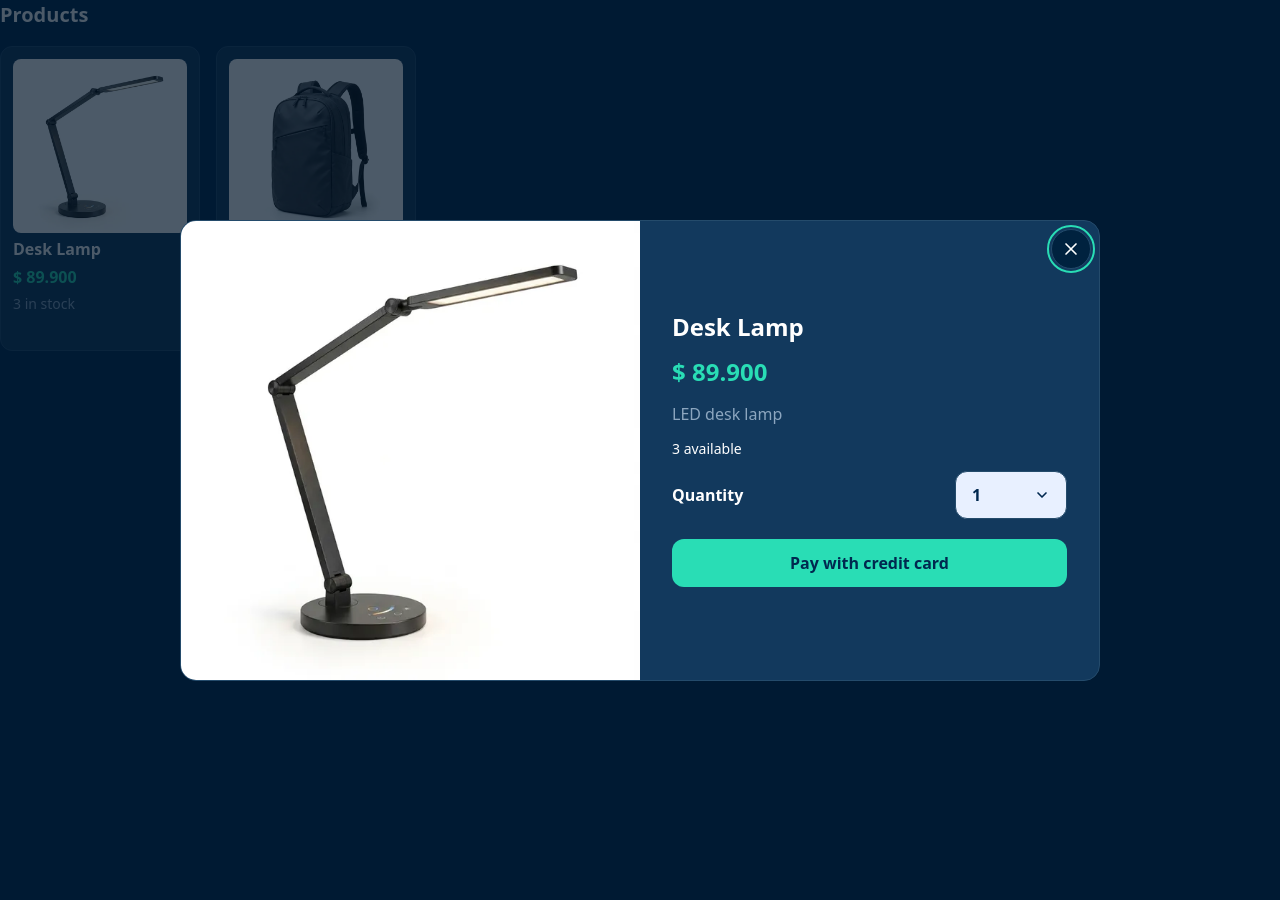
it: ProductPage › supports the keyboard and closes the list without closing the modal
Earlier steps of the test are not shown.
Click the button named "Quantity" at (1011, 495), box [955,471,1067,519]
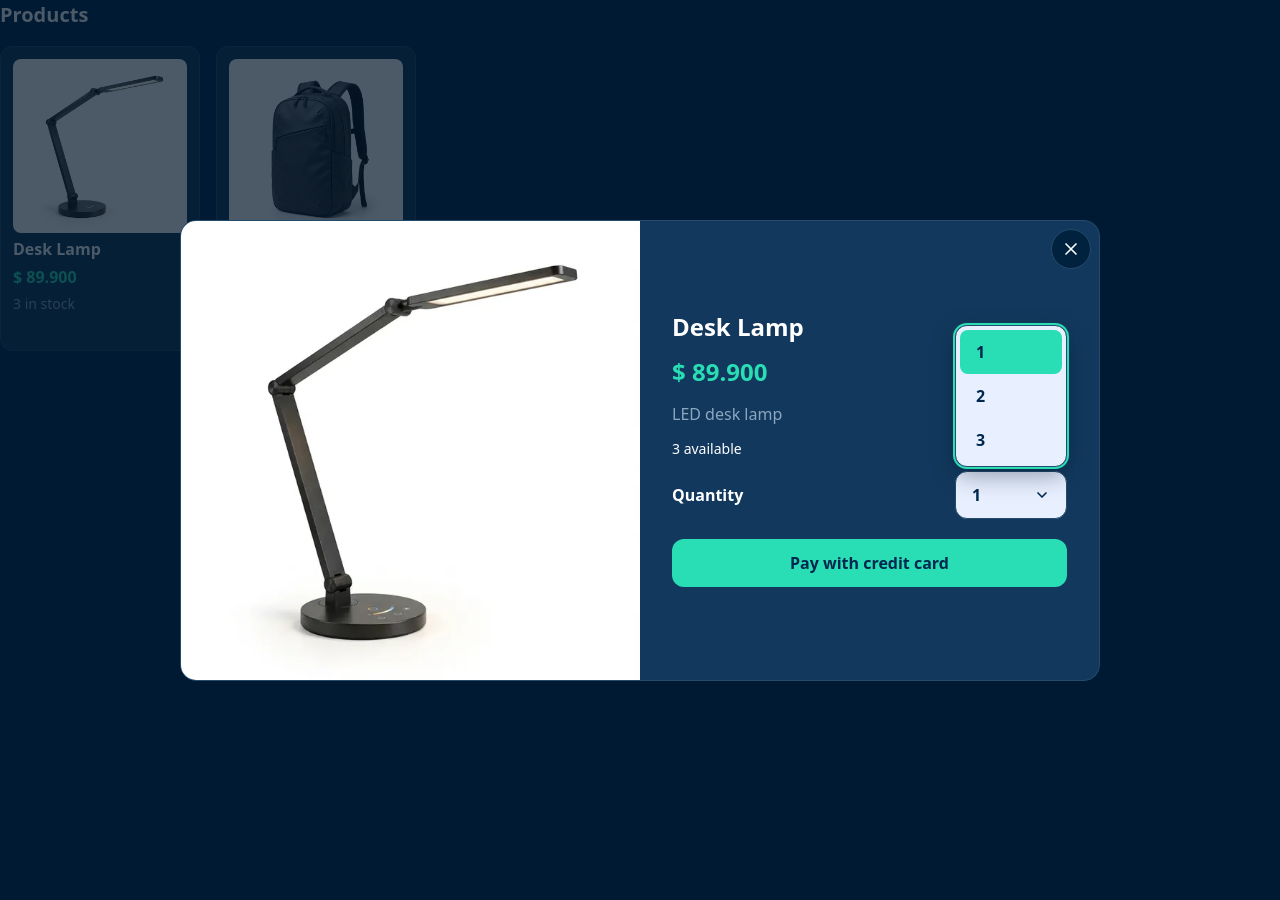
Press Arrowdown Arrowdown Arrowup Enter
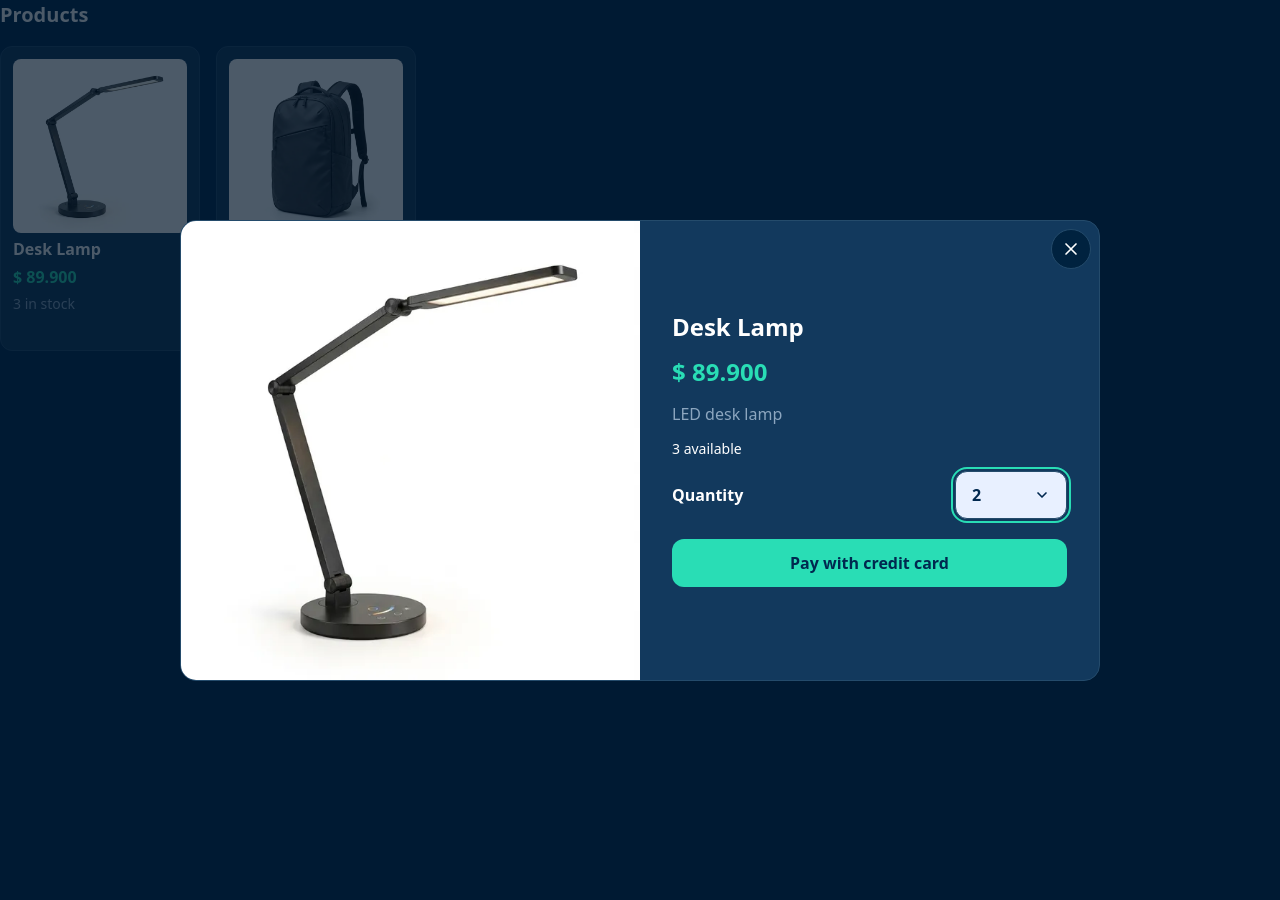
Check: the button named "Quantity" reads "2"
Click the button named "Quantity" at (1011, 495), box [955,471,1067,519]
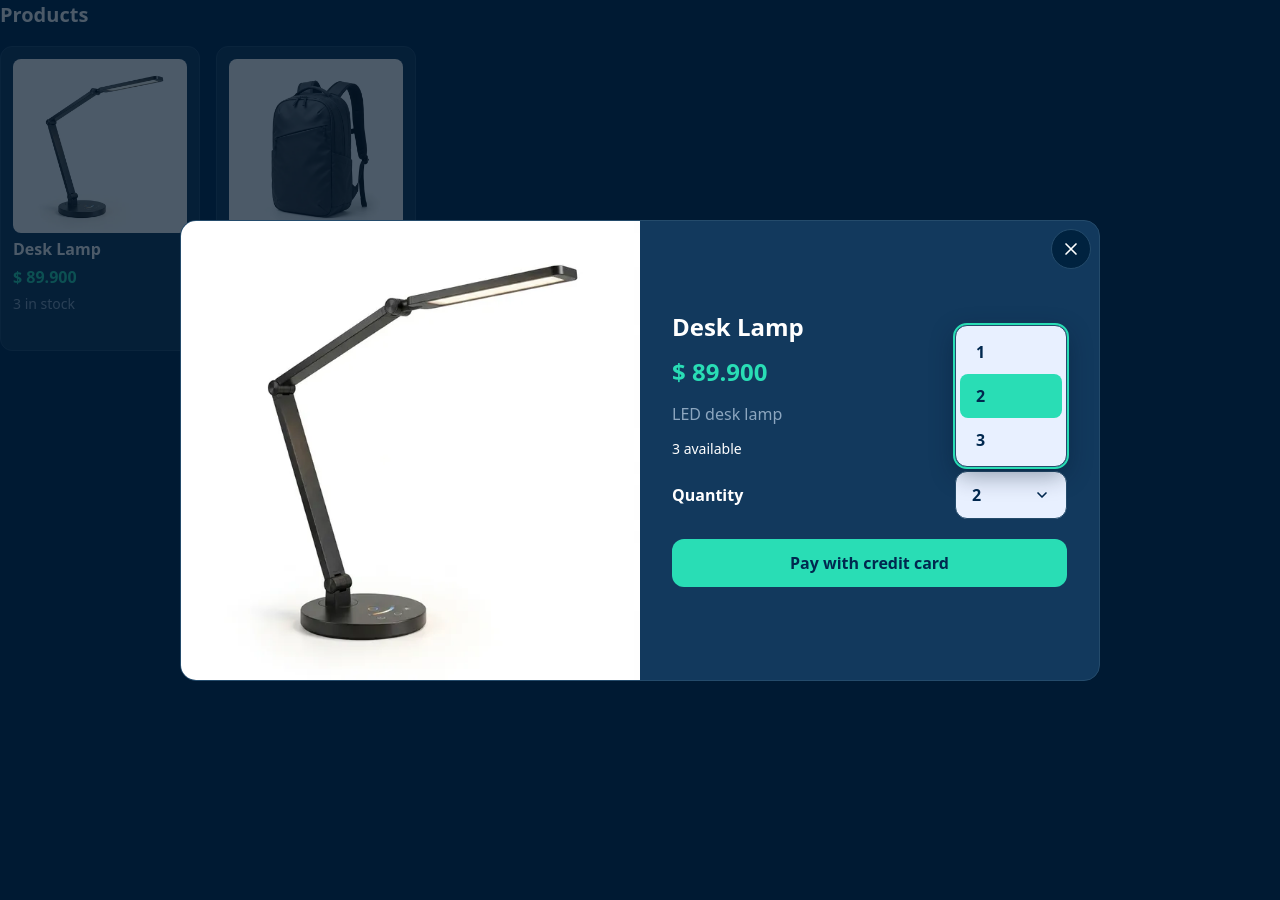
Press Escape
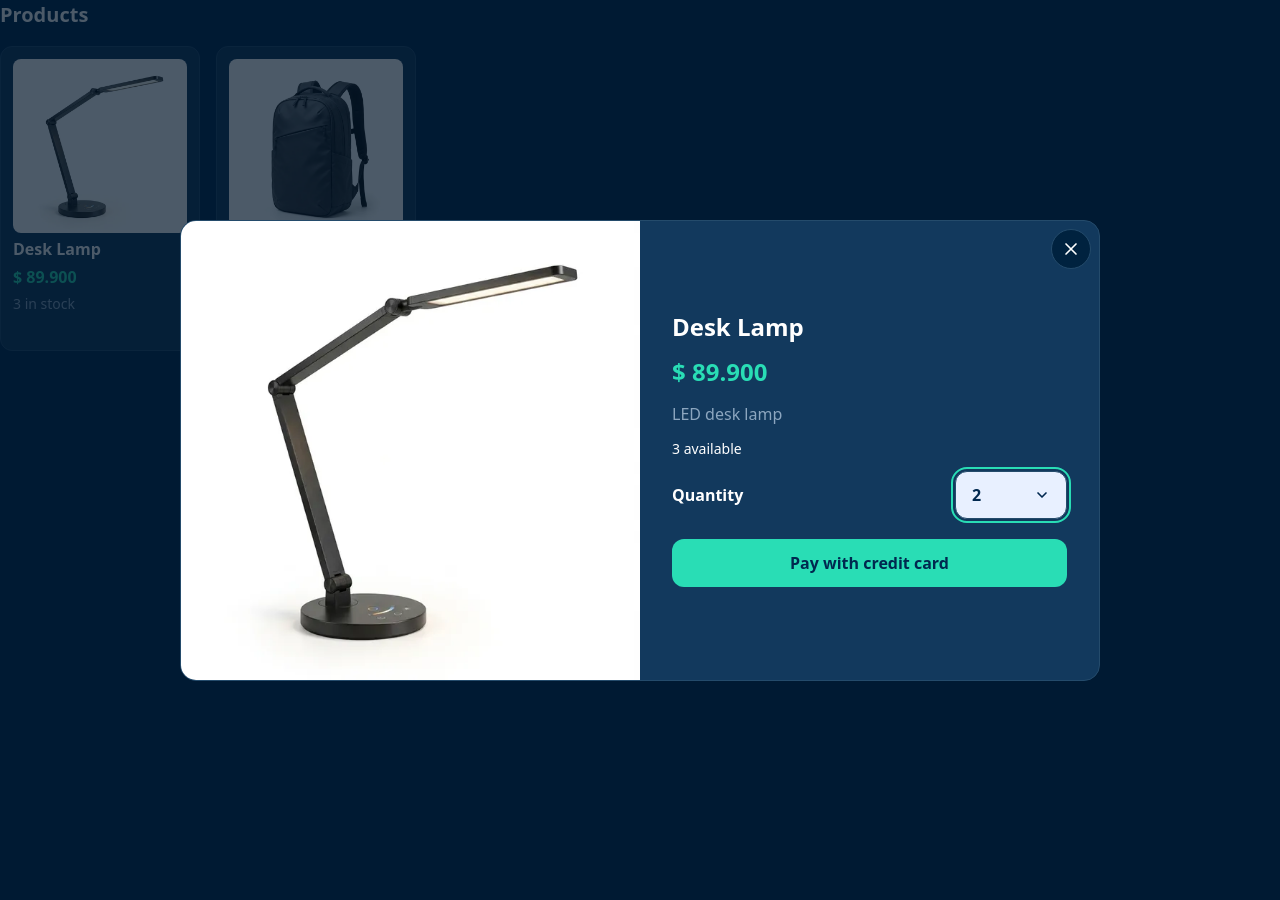
Check: the list "1 2 3" is gone
Click the button named "Quantity" at (1011, 495), box [955,471,1067,519]
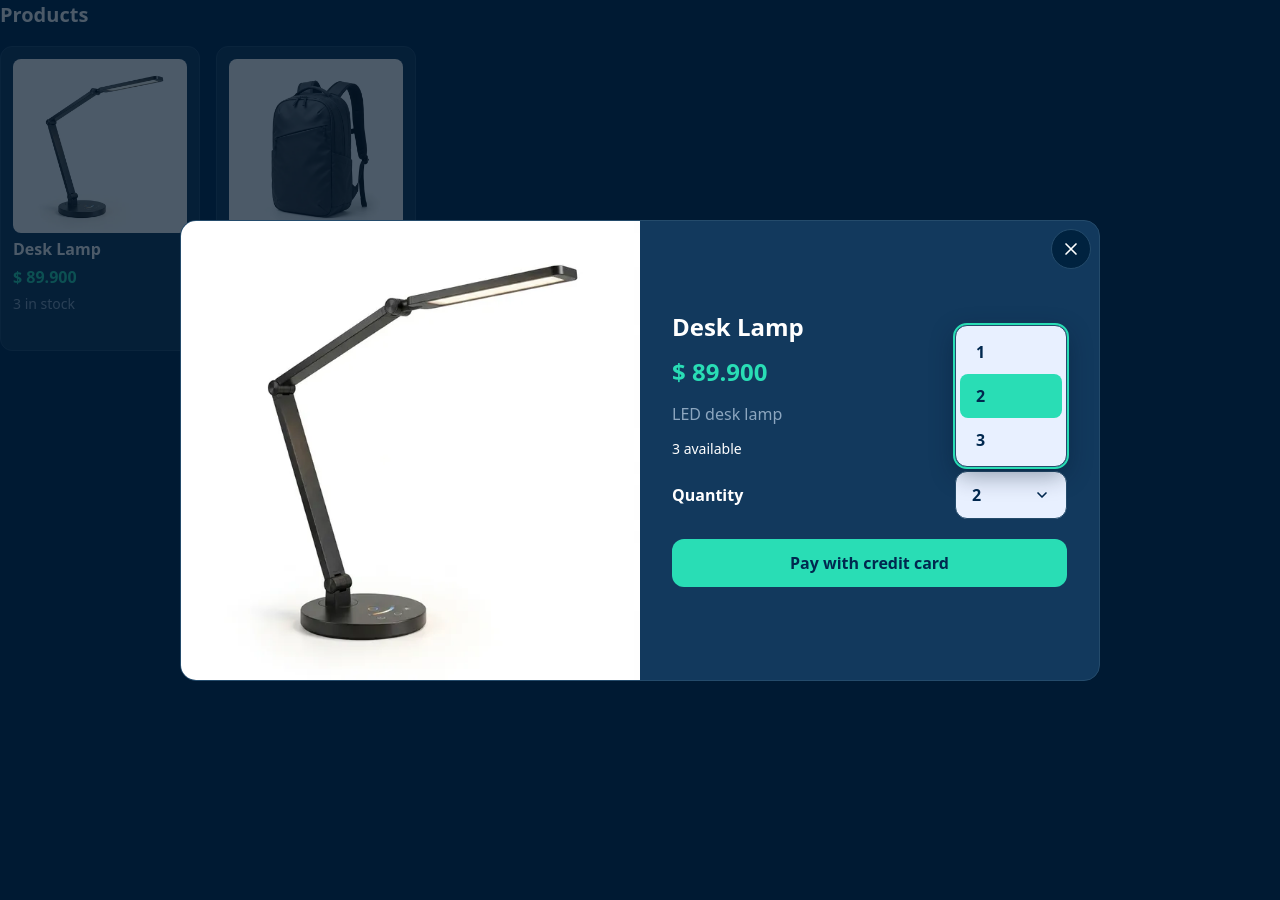
Click the heading "Desk Lamp" at (738, 327), box [672,310,804,343]
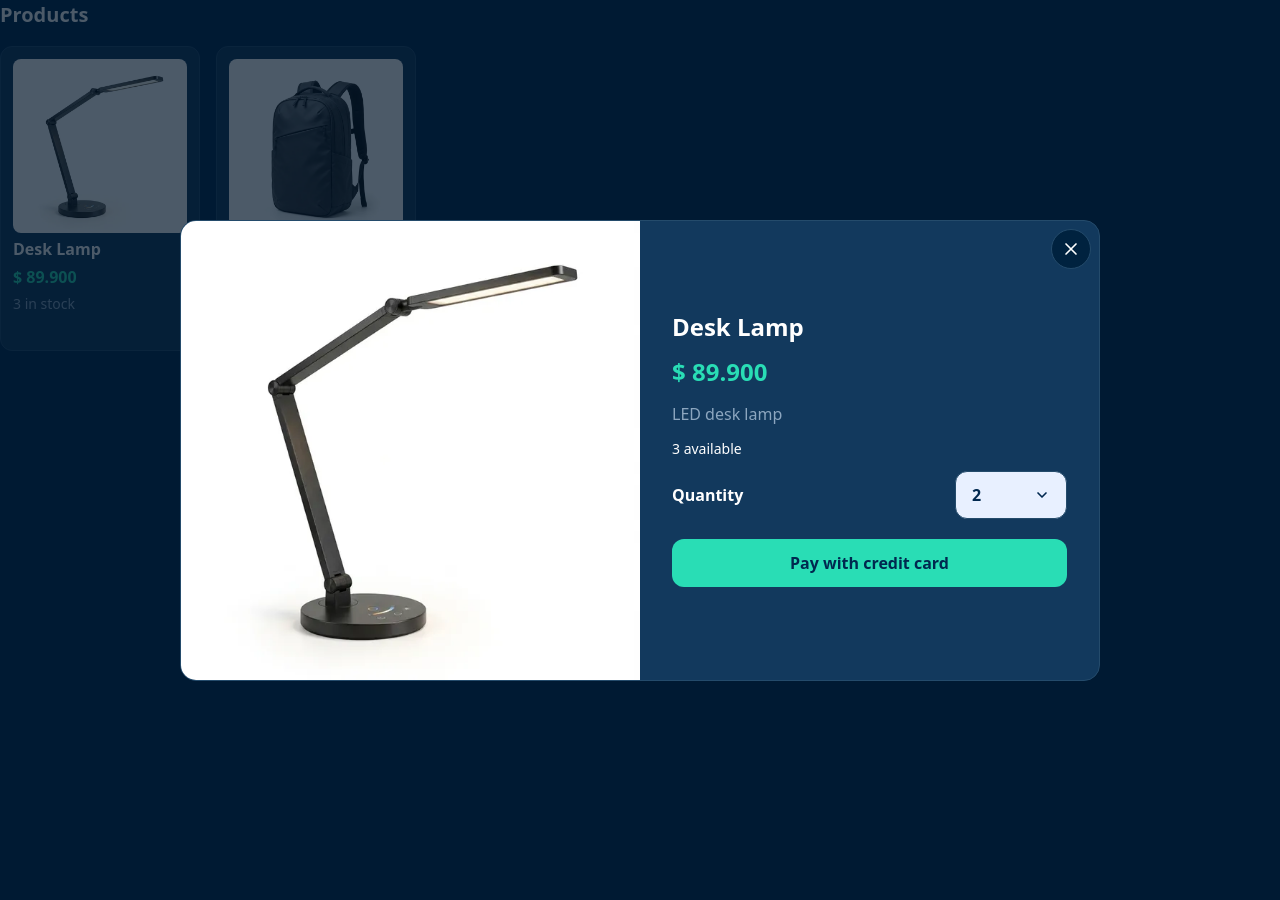
Check: the dialog is shown, box [180,220,1100,680]
Check: the list "1 2 3" is gone
